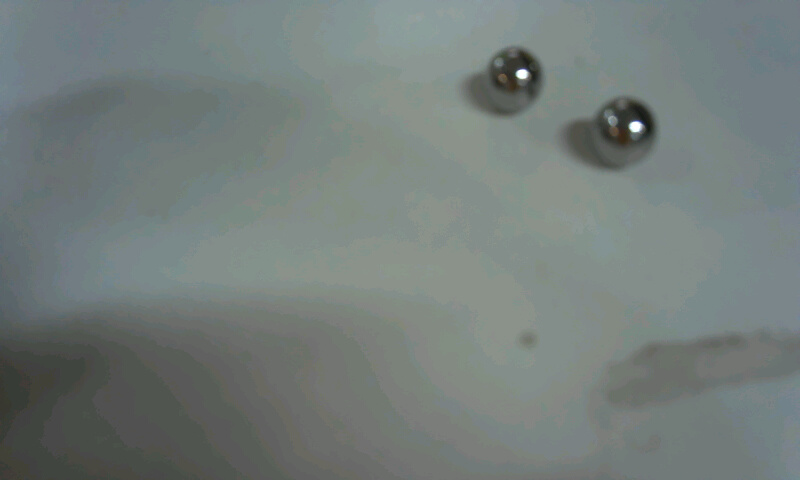steelball: (585, 86, 670, 185), (469, 35, 557, 130)
